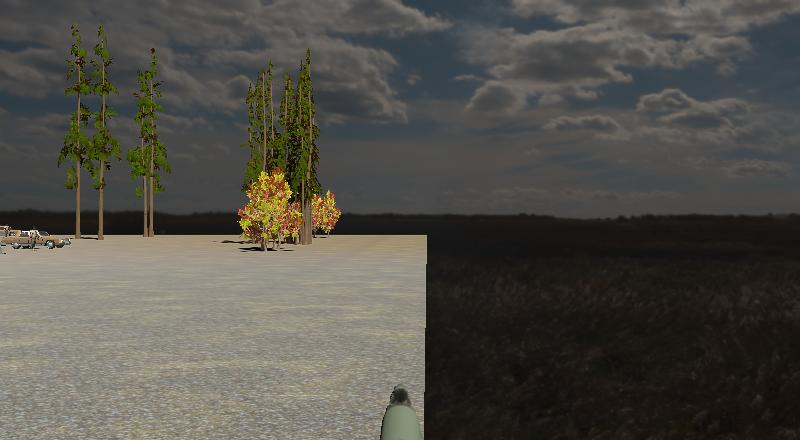car: (26, 227, 72, 250), (0, 226, 29, 248)
